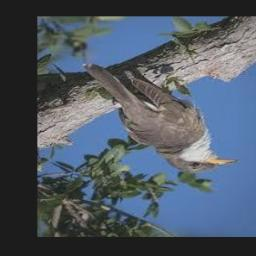Cuckoo: (83, 63, 239, 172)
